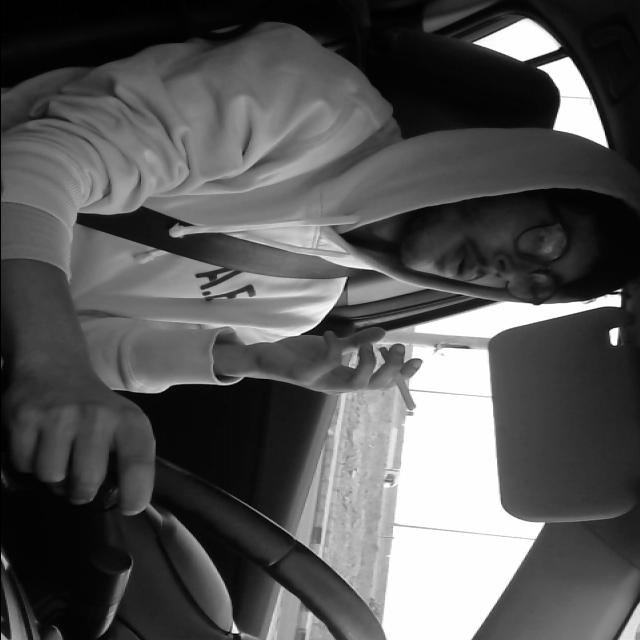smoking: (372, 344, 428, 414)
